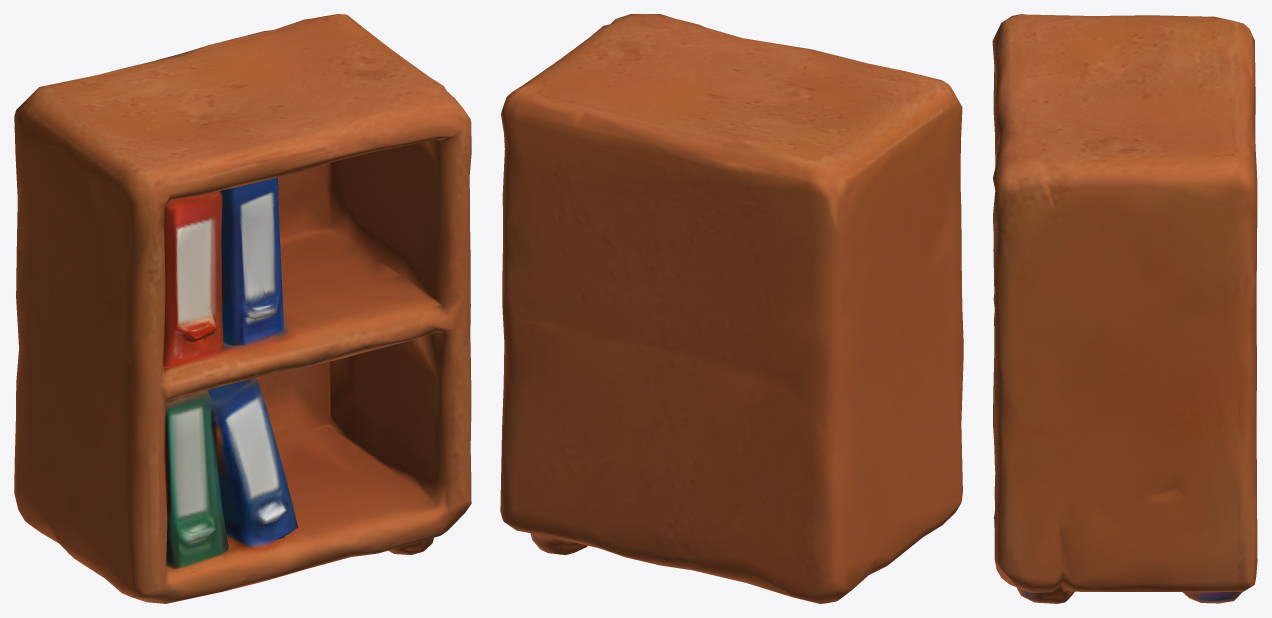
Rendered from etagere.glb.
3 renders of one model, left to right at view 1: azimuth 30°, elevation 25°; view 2: azimuth 150°, elevation 25°; view 3: azimuth 270°, elevation 25°, orthographic. The views are drawn at different scales.
Parts seen in each view (by area): view 1: etagere; view 2: etagere; view 3: etagere.
Boxes of the visible parts, box(x1,y1,x2,y2) form: etagere: box(14, 14, 471, 603); etagere: box(500, 14, 963, 603); etagere: box(992, 14, 1257, 603).
Size of the model in its own units: 0.1636 by 0.2102 by 0.112.
1 material, 1 textured.
